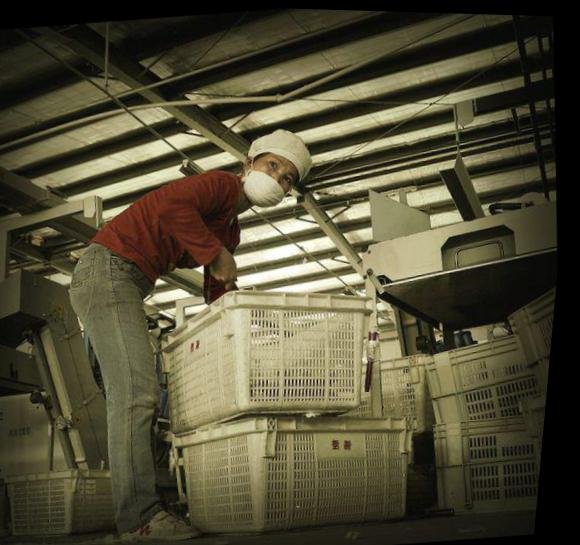WRONG: (246, 150, 305, 207)
